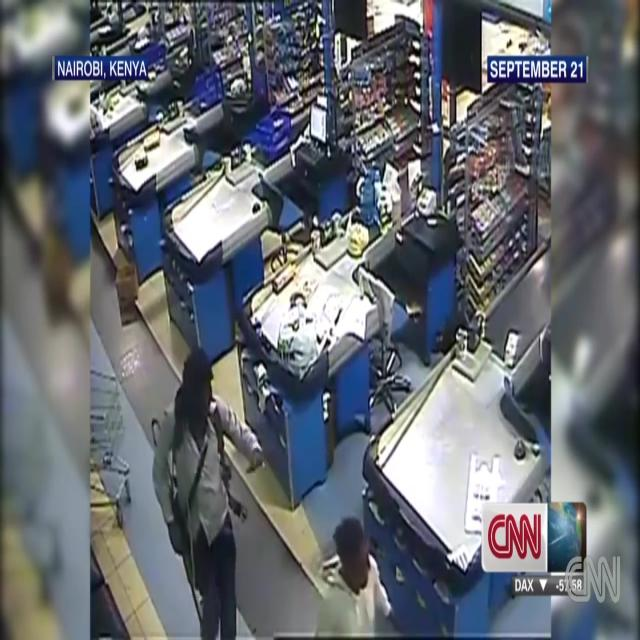Weapon: (144, 392, 214, 640)
